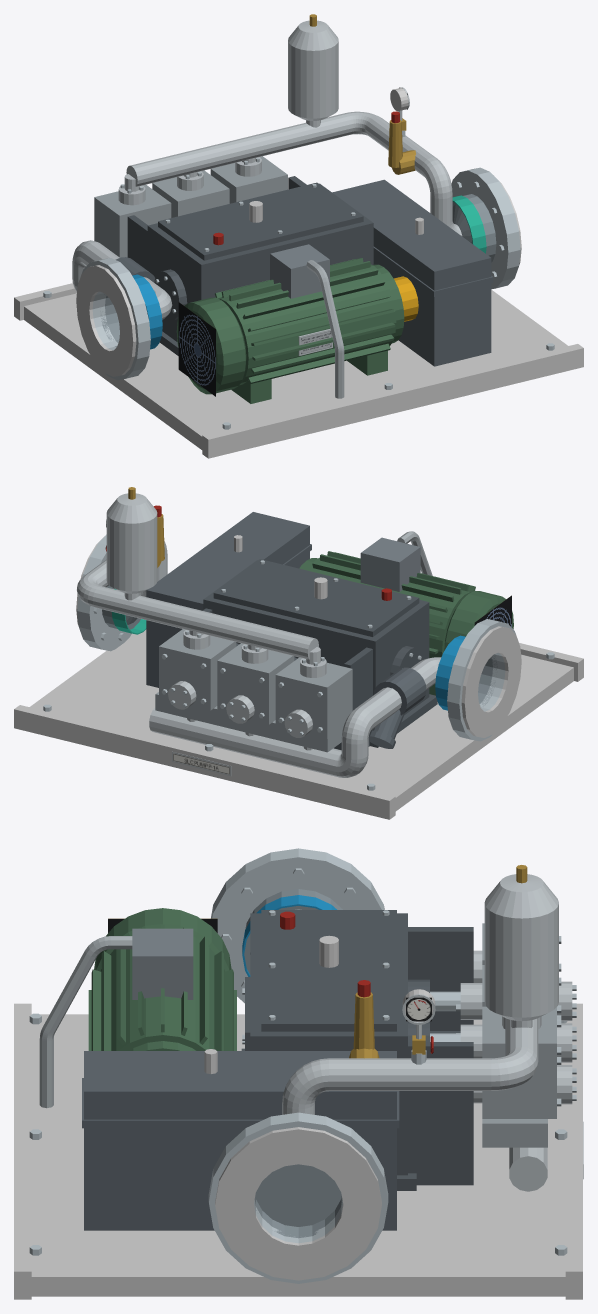
Rendered from inventory.obj.
3 views of the same model, one above another, from view 1: azimuth 30°, elevation 25°; view 2: azimuth 150°, elevation 25°; view 3: azimuth 270°, elevation 25° (orthographic). The views are drawn at different scales.
Bounding box in the file's own units: 0.9 × 0.549 × 0.7812.
